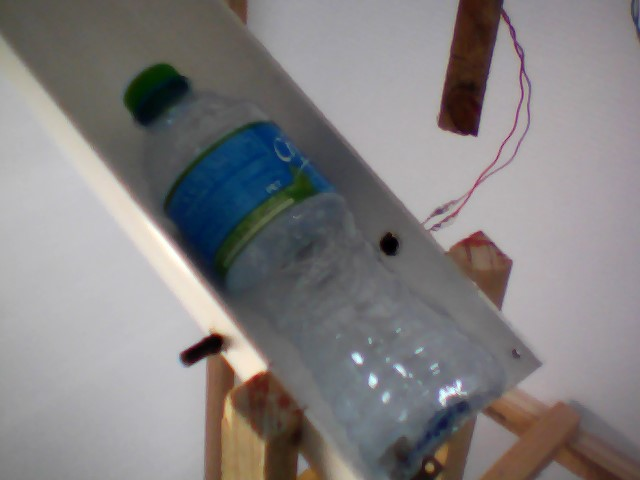plastico: (116, 53, 509, 480)
